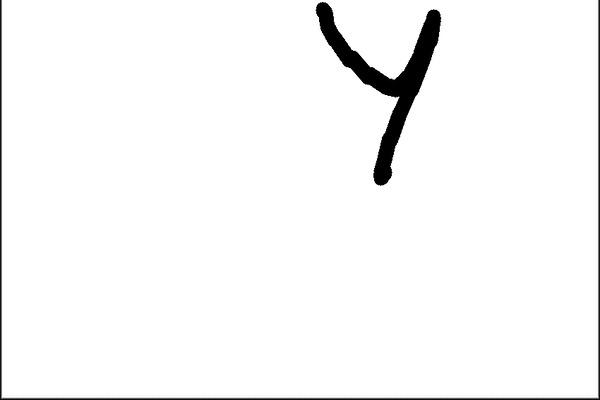Y: (295, 2, 451, 202)
